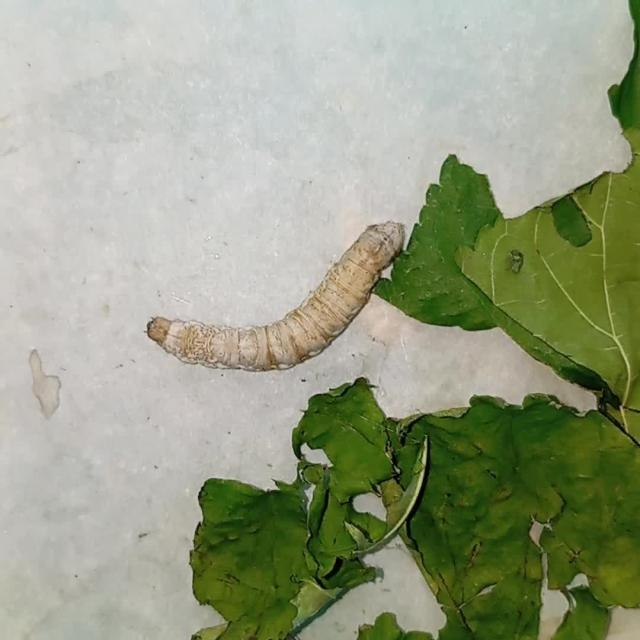Grasserie: (139, 217, 417, 374)
